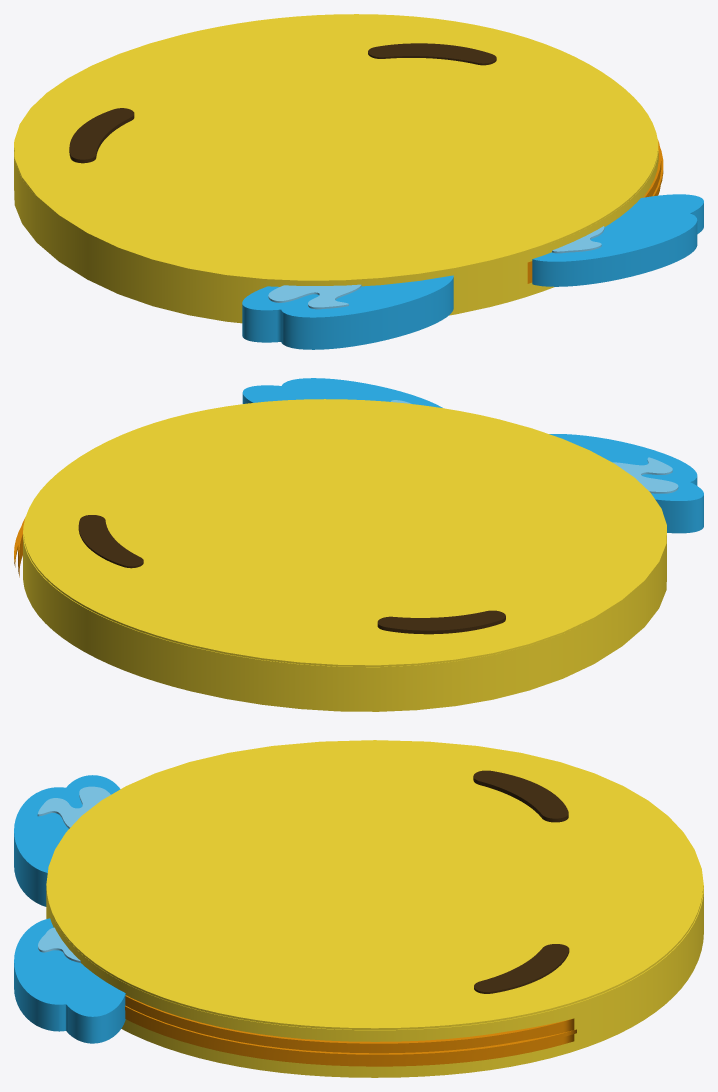
File: emoji_u1f62d.glb
3 renders of one model, top to bottom at view 1: azimuth 30°, elevation 25°; view 2: azimuth 150°, elevation 25°; view 3: azimuth 270°, elevation 25°, orthographic. The views are drawn at different scales.
Visible parts, largest first — view 1: emoji_u1f62d; view 2: emoji_u1f62d; view 3: emoji_u1f62d.
Part boxes in pixels (box(x1,y1,x2,y2)): emoji_u1f62d: box(14, 14, 703, 349); emoji_u1f62d: box(14, 378, 703, 711); emoji_u1f62d: box(14, 740, 703, 1077).
Bounding box in the file's own units: 0.0328 × 0.003 × 0.0327.
